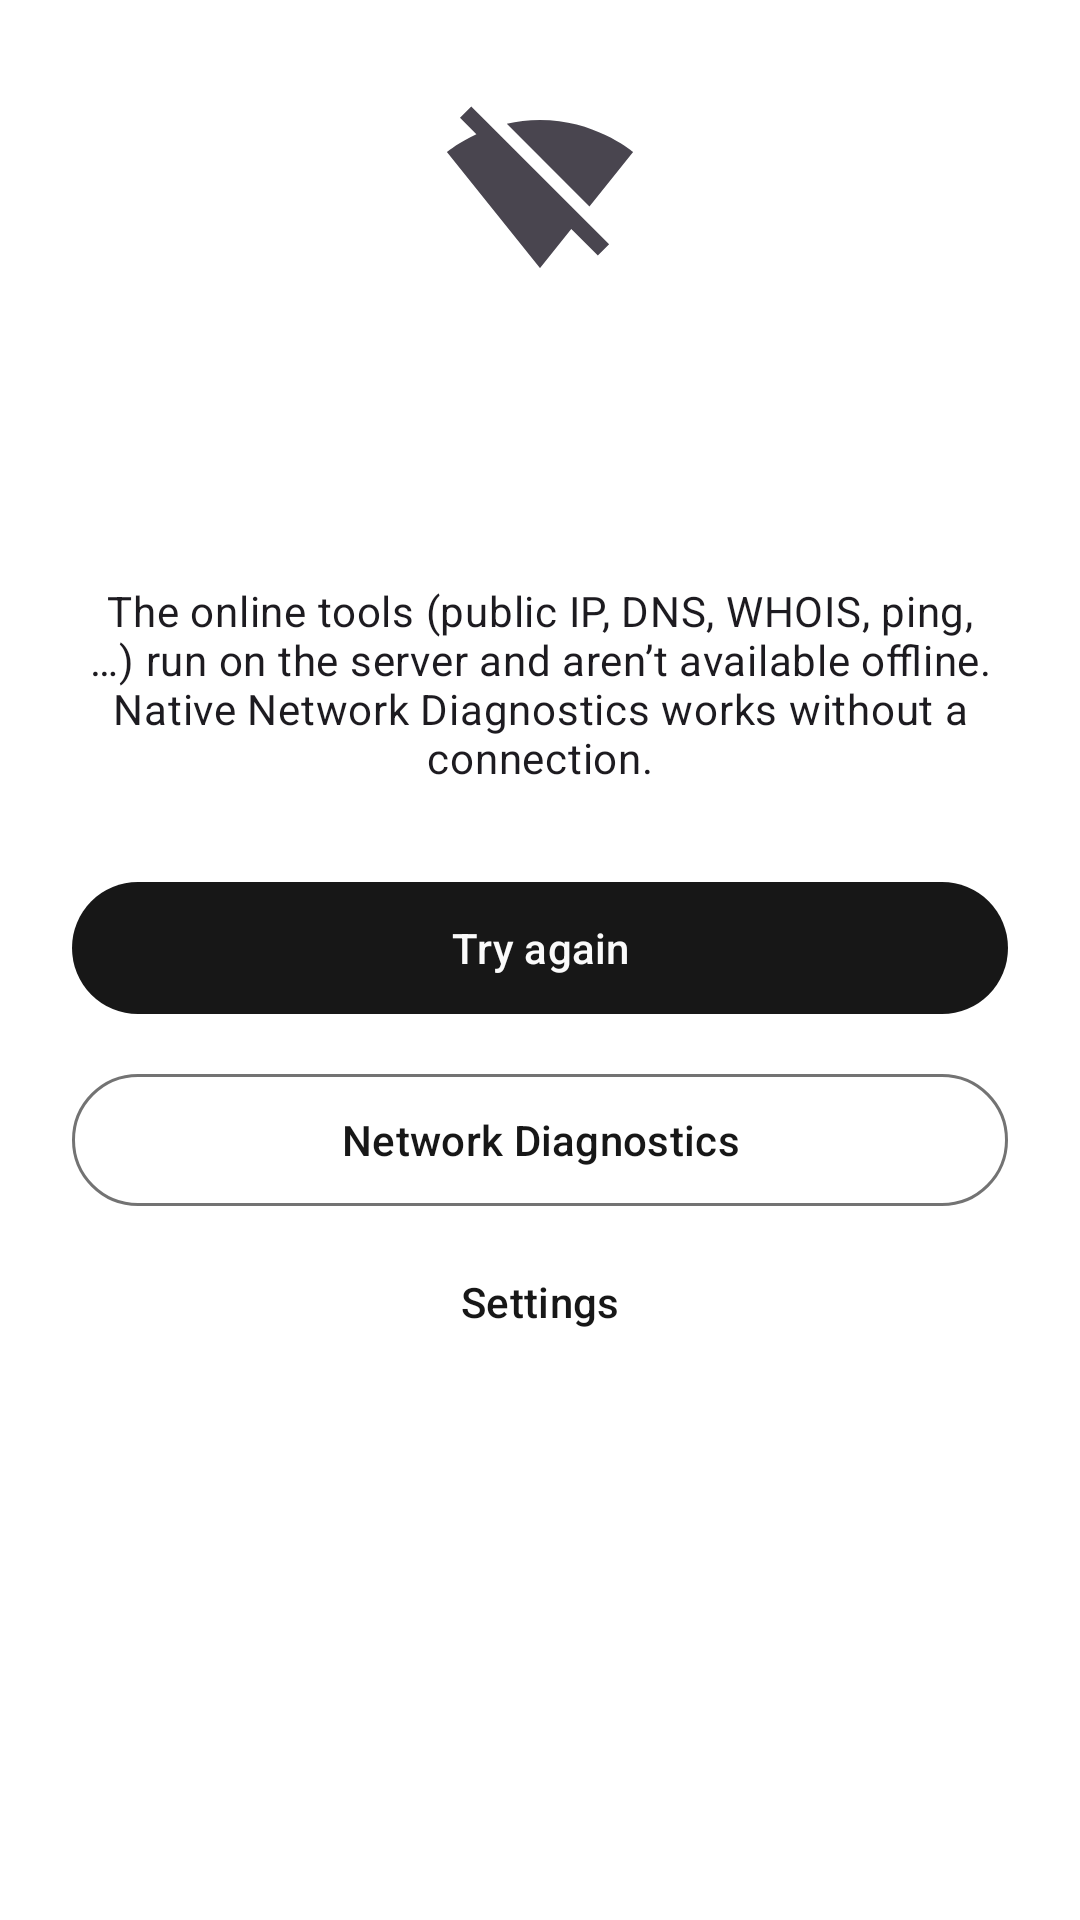

Icon click points for this 1080px x 1920px phone screenshot, format (x,y):
wifi off: (540,187)
